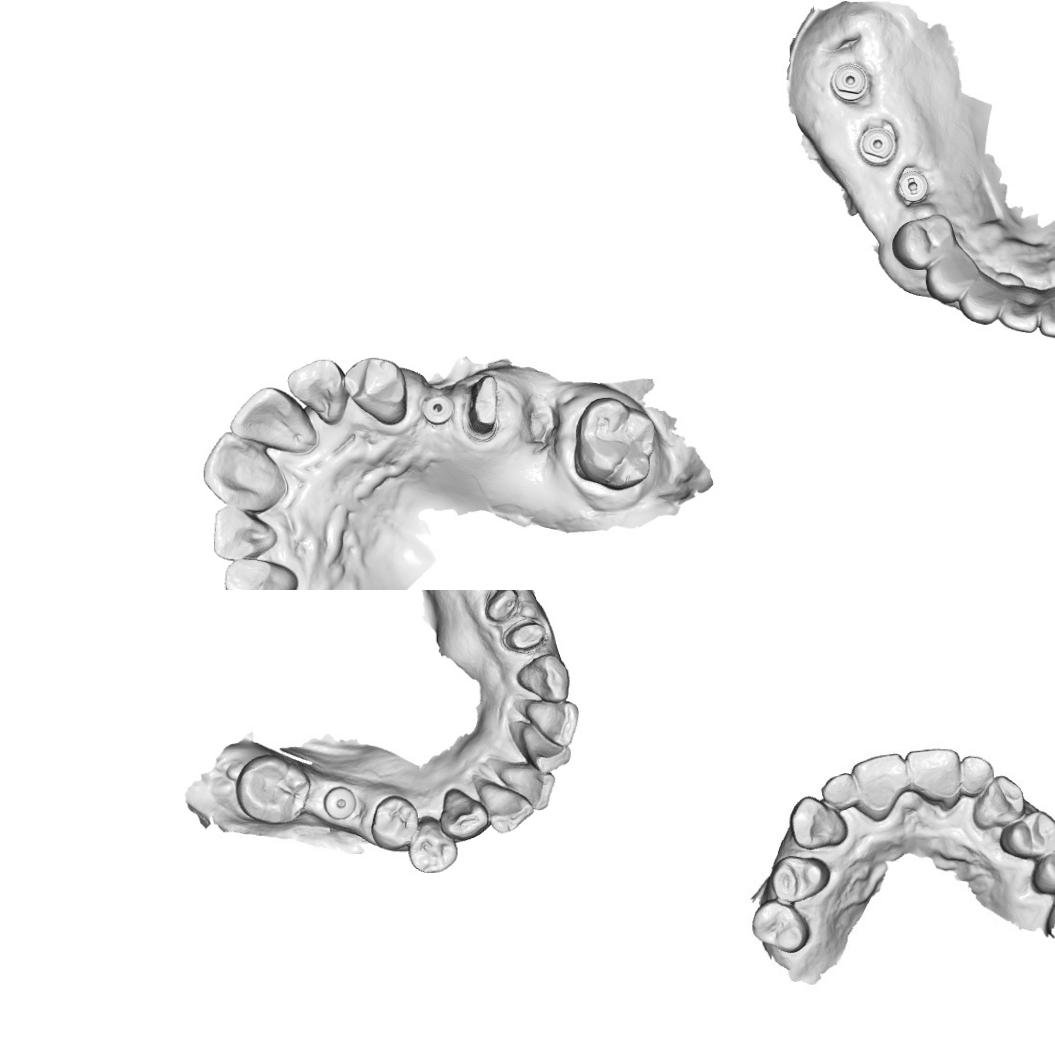canine: (344, 351, 410, 427), (788, 796, 848, 852), (438, 785, 492, 842), (516, 650, 570, 706), (971, 774, 1024, 830), (220, 555, 298, 590), (923, 255, 973, 306)
crown: (464, 372, 504, 439), (500, 612, 555, 657), (480, 590, 525, 622)
implant: (826, 60, 872, 108), (856, 124, 899, 168), (322, 782, 361, 822), (420, 390, 456, 428)
implant_minus: (893, 166, 932, 207)
incisor: (200, 428, 290, 512), (228, 382, 316, 456), (282, 354, 347, 427), (209, 505, 276, 562), (851, 752, 902, 822), (907, 746, 960, 810), (518, 718, 576, 776), (476, 781, 536, 836), (524, 694, 582, 748), (495, 761, 555, 812), (955, 276, 1001, 327), (994, 290, 1046, 335), (959, 753, 998, 802), (818, 772, 860, 809), (1036, 292, 1055, 342)
molar: (570, 394, 662, 492), (234, 750, 314, 827)
premolar: (888, 212, 955, 272), (748, 898, 810, 955), (369, 792, 423, 854), (408, 816, 461, 876), (770, 851, 830, 903), (1000, 810, 1055, 861), (1030, 842, 1055, 896)
